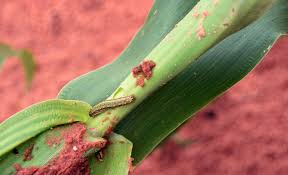Armyworm: (88, 91, 142, 121)
